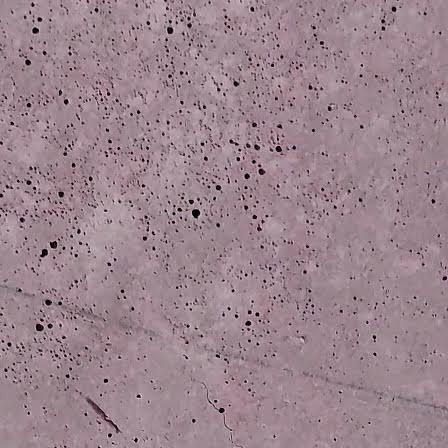crack: (180, 361, 248, 448)
